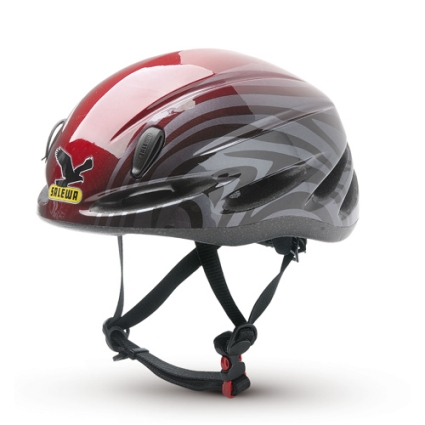helmet: (41, 65, 367, 251)
